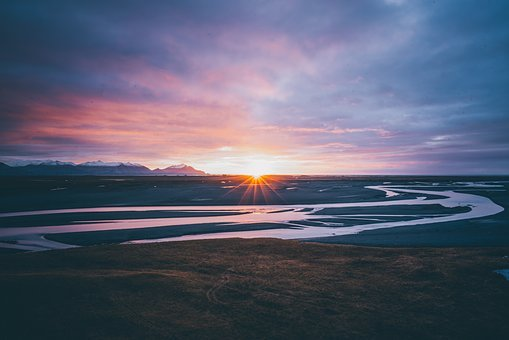field: (9, 176, 496, 326)
sky: (5, 6, 507, 178)
